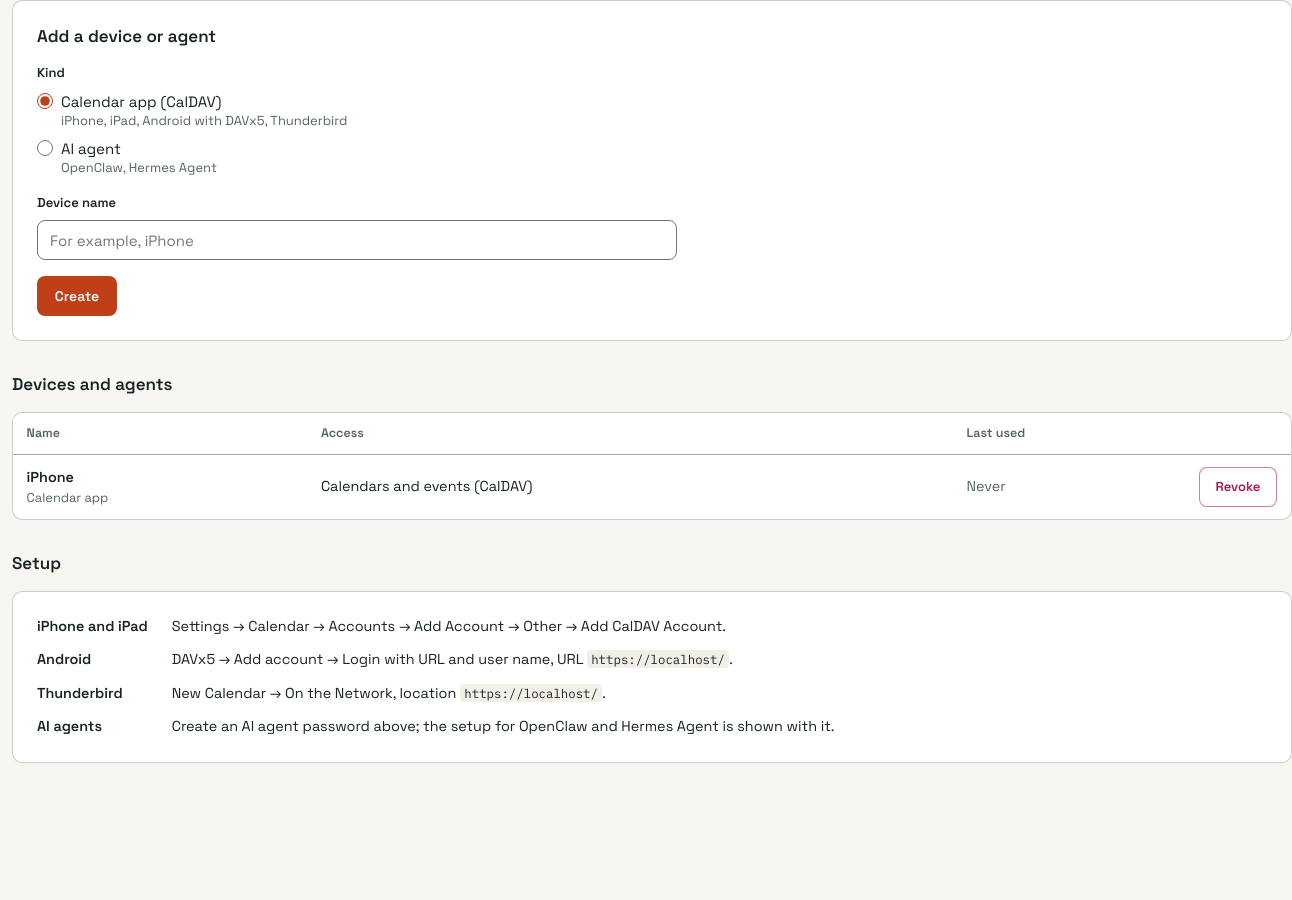
AppPasswords › says so when revoking fails and keeps the device listed
This screenshot has width=1292, height=900.
Click the button with aria-label "revoke iphone" at x=1238, y=487, box [1198, 467, 1277, 507]
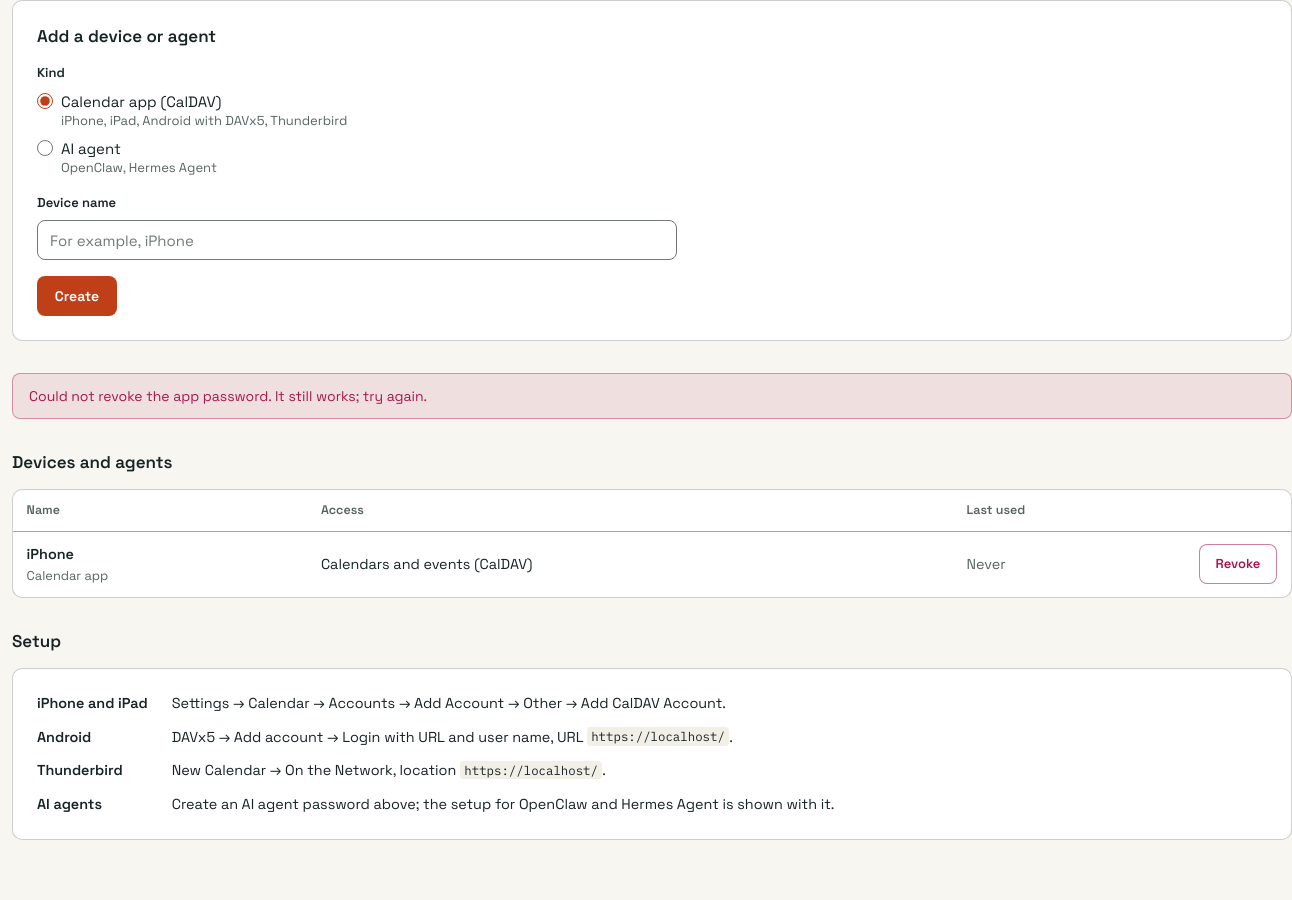
Expected: the button with aria-label "revoke iphone" is shown, [1198, 544, 1277, 584]
Expected: the message shows "Could not revoke", [29, 387, 427, 405]
